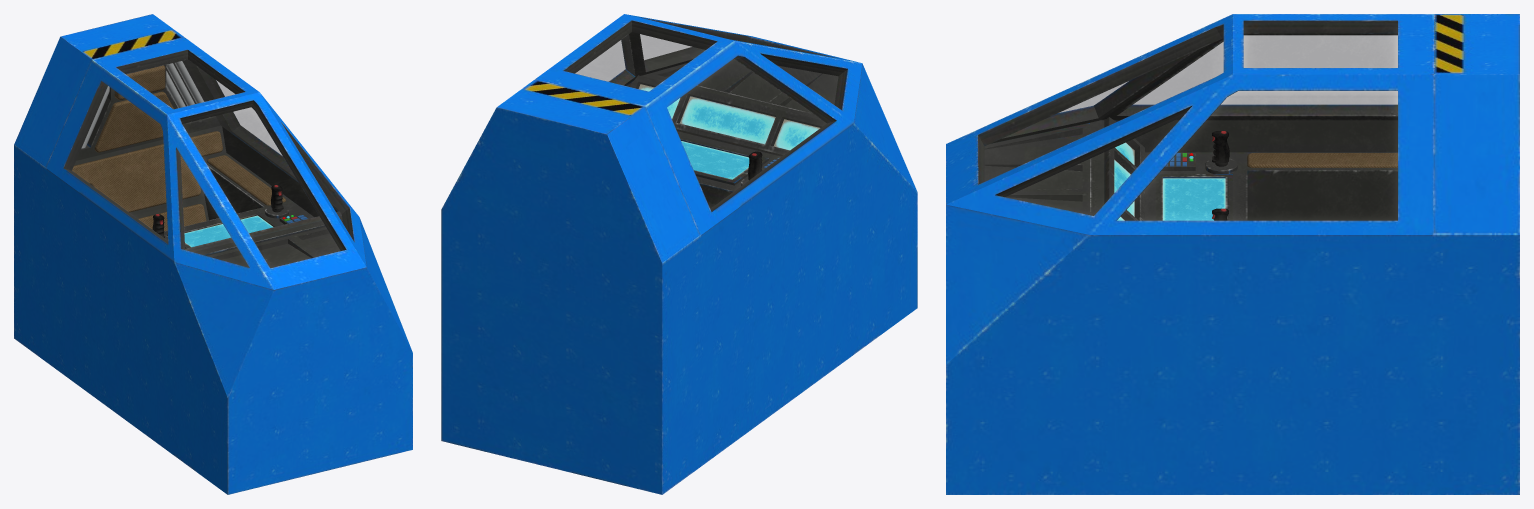
File: ck3_kokpit.glb
3 renders of one model, left to right at view 1: azimuth 30°, elevation 25°; view 2: azimuth 150°, elevation 25°; view 3: azimuth 270°, elevation 25°, orthographic. The views are drawn at different scales.
Parts seen in each view (by area): view 1: Body, CanopyGlass, CanopyFrame, Back_2, Neck, ArmRestL, Headrest, Back_1, LowerPipe; view 2: Body, CanopyFrame, CanopyGlass; view 3: Body, CanopyGlass, CanopyFrame, ArmRestR.
Part boxes in pixels (<box>): Body: <box>14,14,412,494</box>; CanopyGlass: <box>68,55,348,267</box>; CanopyFrame: <box>46,37,366,289</box>; Back_2: <box>72,131,222,212</box>; Neck: <box>94,91,173,152</box>; ArmRestL: <box>207,155,285,205</box>; Headrest: <box>114,65,165,100</box>; Back_1: <box>138,204,206,231</box>; LowerPipe: <box>81,71,185,148</box>; Body: <box>441,59,917,494</box>; CanopyFrame: <box>535,14,862,234</box>; CanopyGlass: <box>570,26,842,209</box>; Body: <box>946,14,1519,494</box>; CanopyGlass: <box>981,27,1397,219</box>; CanopyFrame: <box>946,14,1433,234</box>; ArmRestR: <box>1247,153,1397,167</box>.
Size of the model in its own units: 1 by 1.5 by 2.
11 materials, 11 textured.
